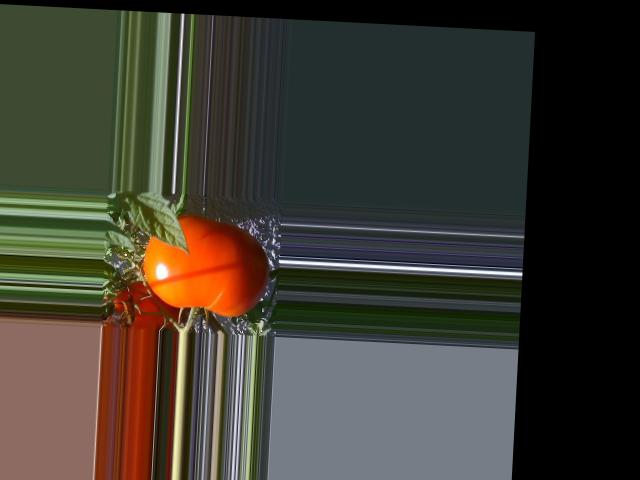tomato: (140, 212, 271, 318)
